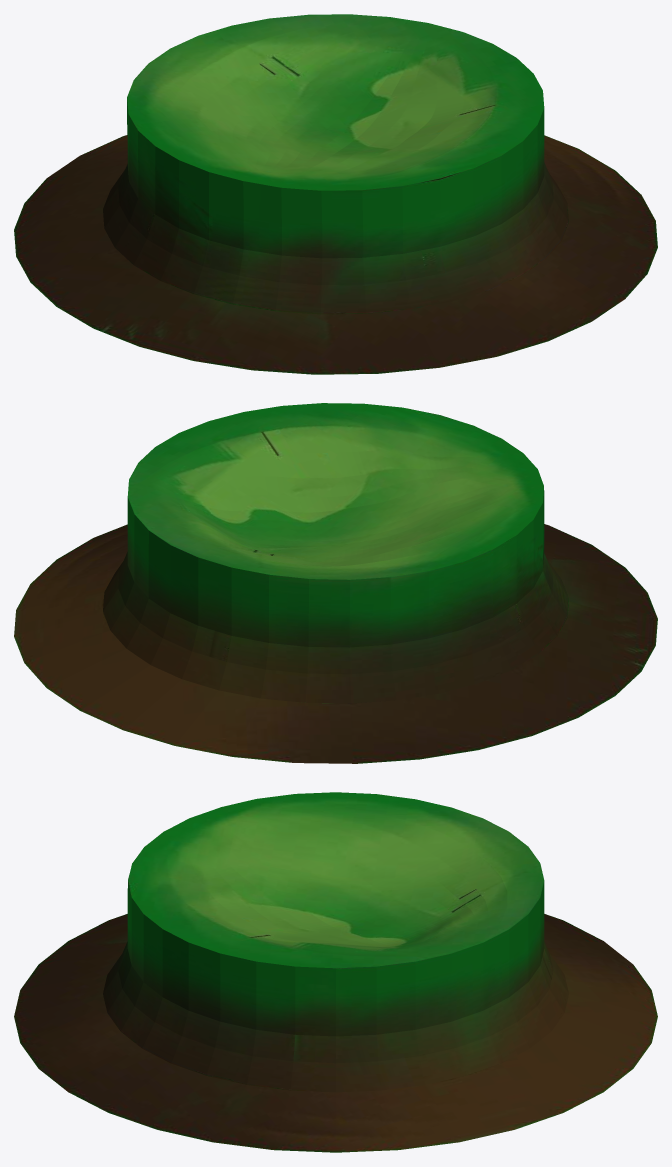
Rendered from bluebed empty 1.fbx.
The picture shows the model from 3 angles, top to bottom: view 1: azimuth 30°, elevation 25°; view 2: azimuth 150°, elevation 25°; view 3: azimuth 270°, elevation 25°; orthographic projection.
Visible parts, largest first — view 1: Цилиндр.001; view 2: Цилиндр.001; view 3: Цилиндр.001.
Boxes of the visible parts, box(x1,y1,x2,y2) form: Цилиндр.001: box(14, 14, 657, 374); Цилиндр.001: box(14, 403, 657, 763); Цилиндр.001: box(14, 792, 657, 1152).
Bounding box in the file's own units: 291 × 68.05 × 291.
